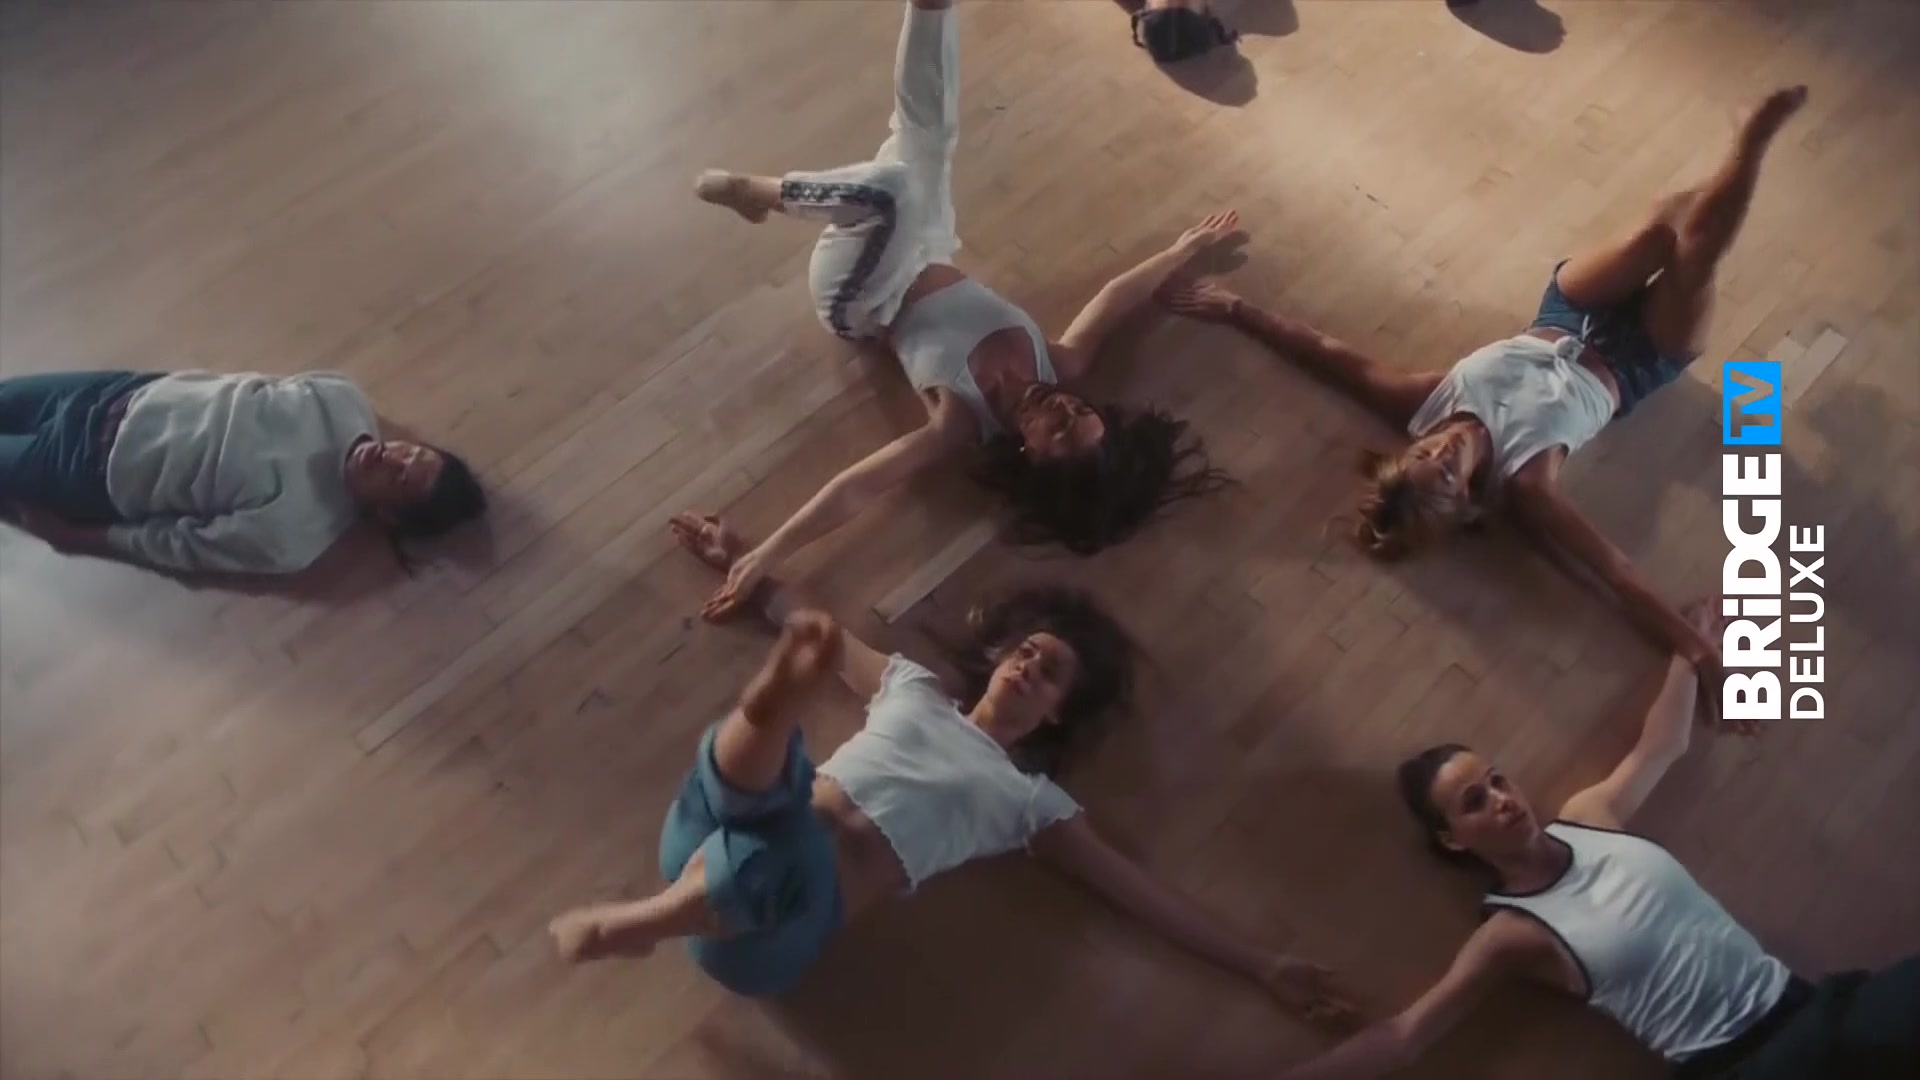Bridge_TV_Deluxe: (1716, 353, 1834, 731)
